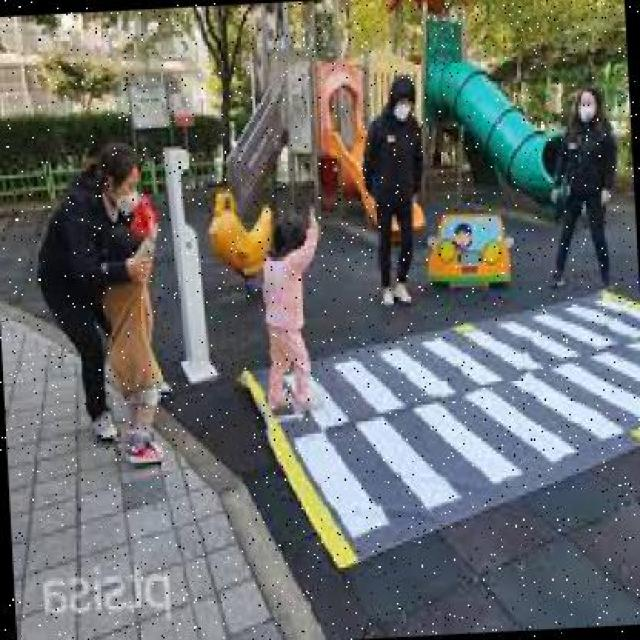obstacle: (31, 143, 152, 439), (102, 208, 172, 466), (357, 75, 429, 311), (542, 81, 620, 297), (257, 210, 326, 418)
